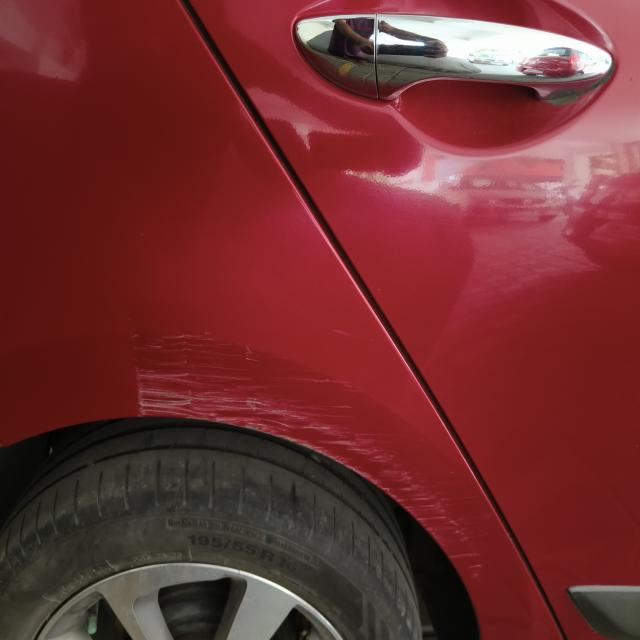scratch: (124, 330, 499, 589)
